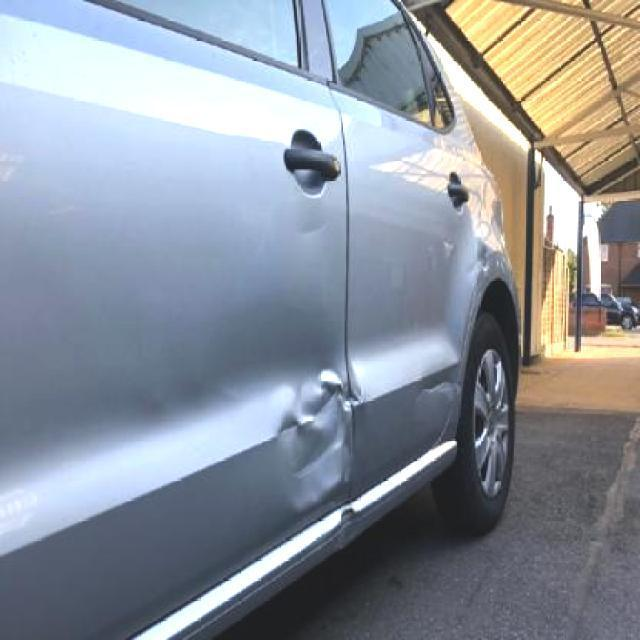minor: (277, 366, 357, 511)
